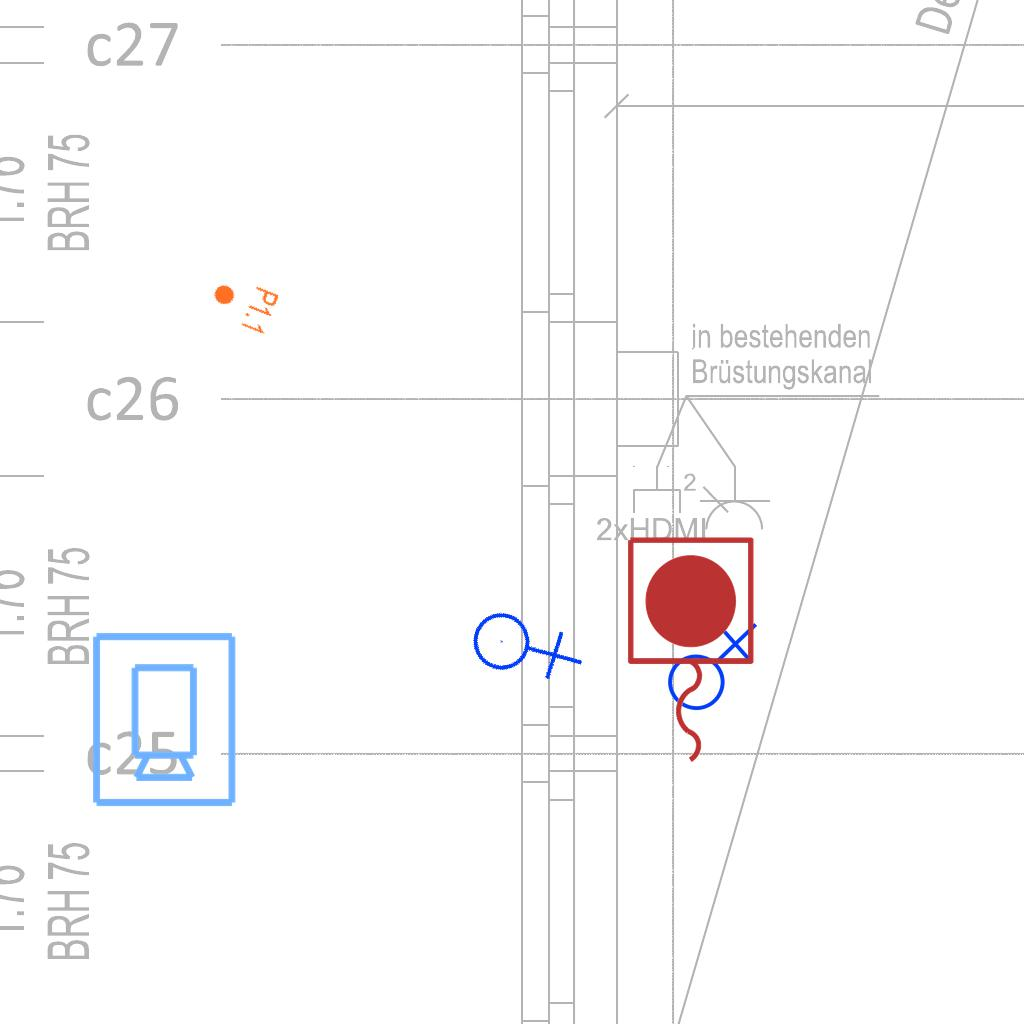Downlight_LED_Einbauleuchten_Flur: (204, 270, 282, 338)
Elektroanschluss_allgemein_230V_Geraeteanschlussdose_230V: (456, 576, 589, 710), (659, 618, 758, 712)
KFO_Kamera_mit_Festobjektiv: (86, 628, 240, 810)
Zugtaster: (617, 529, 761, 773)
